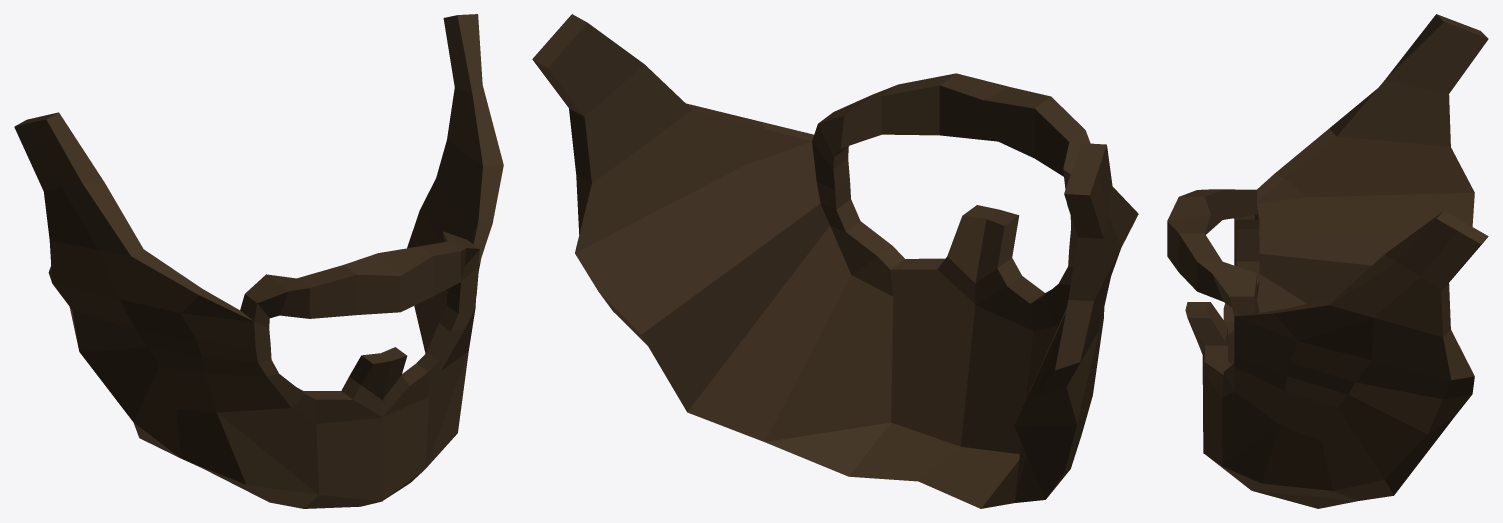
Rendered from Beard_3.fbx.
The picture shows the model from 3 angles, left to right: view 1: azimuth 30°, elevation 25°; view 2: azimuth 150°, elevation 25°; view 3: azimuth 270°, elevation 25°; orthographic projection. The views are drawn at different scales.
Parts seen in each view (by area): view 1: Cube.035; view 2: Cube.035; view 3: Cube.035.
Boxes of the visible parts, x1,y1,x2,y2 form: Cube.035: (14,14,503,508); Cube.035: (532,14,1138,508); Cube.035: (1167,14,1488,508).
Bounding box in the file's own units: 14.48 × 11.63 × 9.23.
